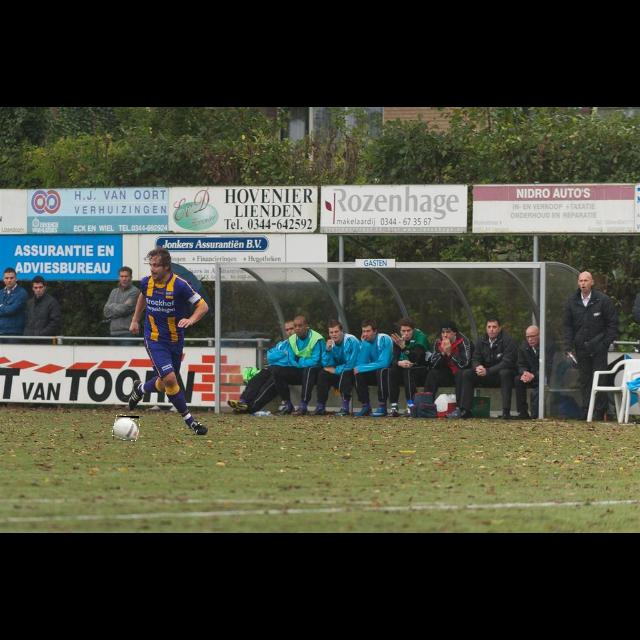Football: (113, 416, 139, 440)
